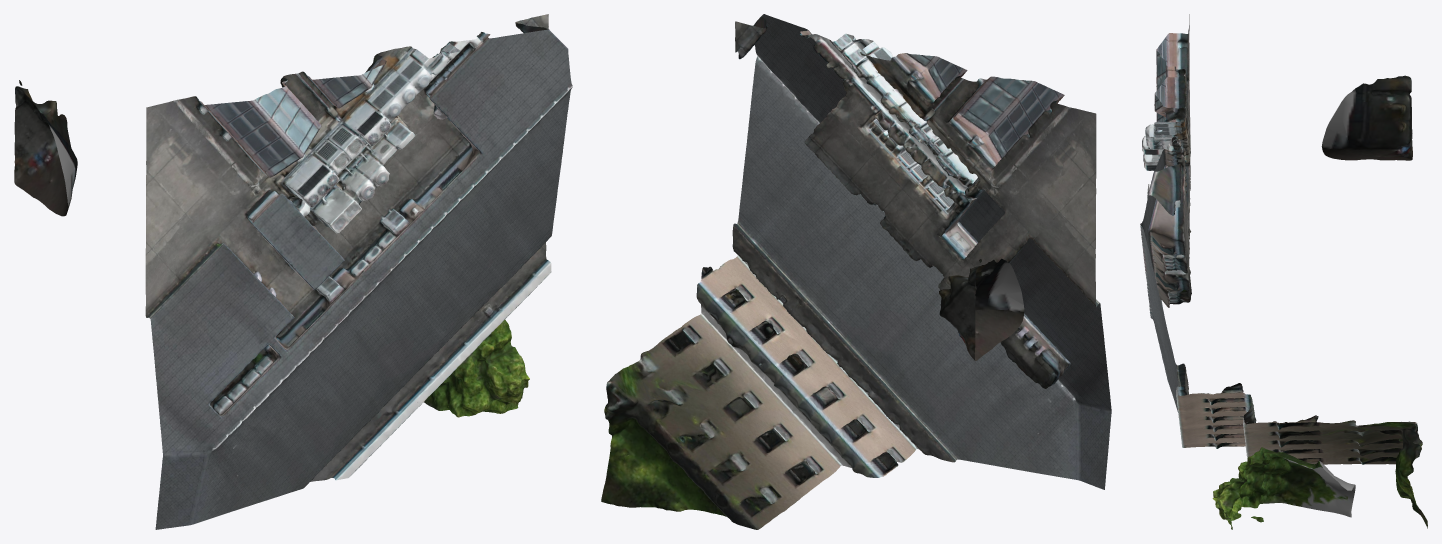
The model's file is Tile_+006_+010.fbx.
3 views of the same model, side by side, from view 1: azimuth 30°, elevation 25°; view 2: azimuth 150°, elevation 25°; view 3: azimuth 270°, elevation 25° (orthographic). The views are drawn at different scales.
Visible parts, largest first — view 1: DefaultName; view 2: DefaultName; view 3: DefaultName.
Boxes of the visible parts, x1,y1,x2,y2 form: DefaultName: [14, 14, 572, 529]; DefaultName: [601, 14, 1111, 529]; DefaultName: [1140, 14, 1427, 529].
Size of the model in its own units: 22.54 by 22.54 by 16.7.
